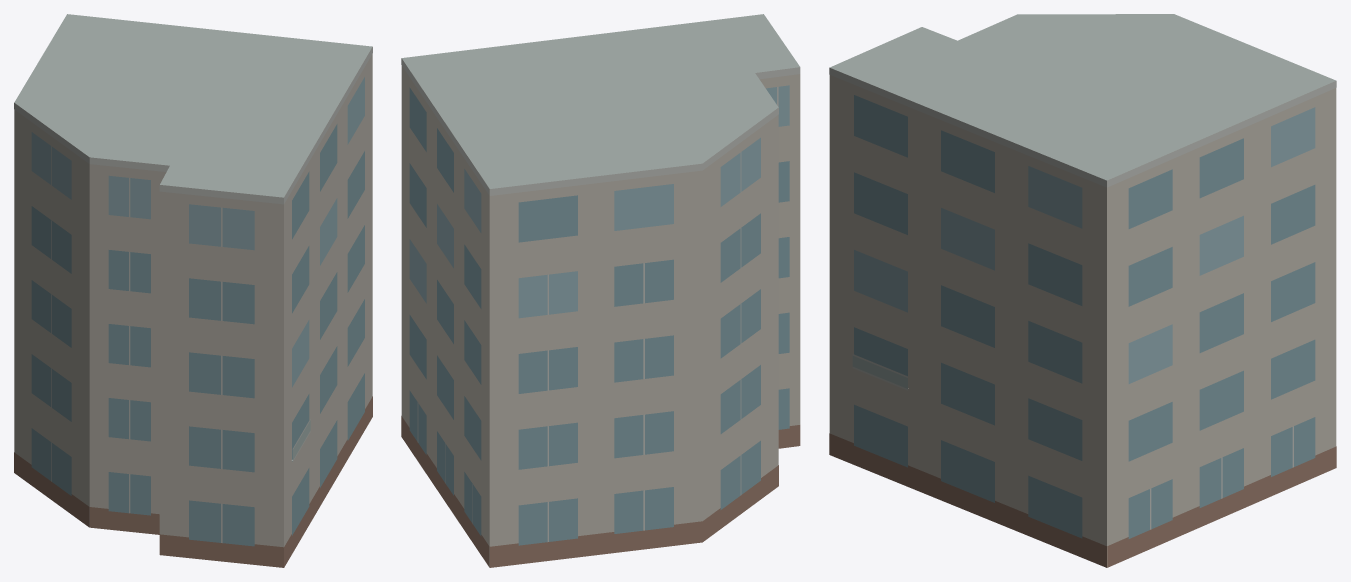
The model's file is survey-upis-32885752.glb.
The picture shows the model from 3 angles, left to right: view 1: azimuth 30°, elevation 25°; view 2: azimuth 150°, elevation 25°; view 3: azimuth 270°, elevation 25°; orthographic projection. The views are drawn at different scales.
Visible parts, largest first — view 1: survey-upis-32885752.tmp; view 2: survey-upis-32885752.tmp; view 3: survey-upis-32885752.tmp.
Part boxes in pixels (x1=…): survey-upis-32885752.tmp: x1=14, y1=14, x2=372, y2=567; survey-upis-32885752.tmp: x1=401, y1=14, x2=800, y2=567; survey-upis-32885752.tmp: x1=829, y1=14, x2=1336, y2=567.
Size of the model in its own units: 12.37 by 13.4 by 15.91.
